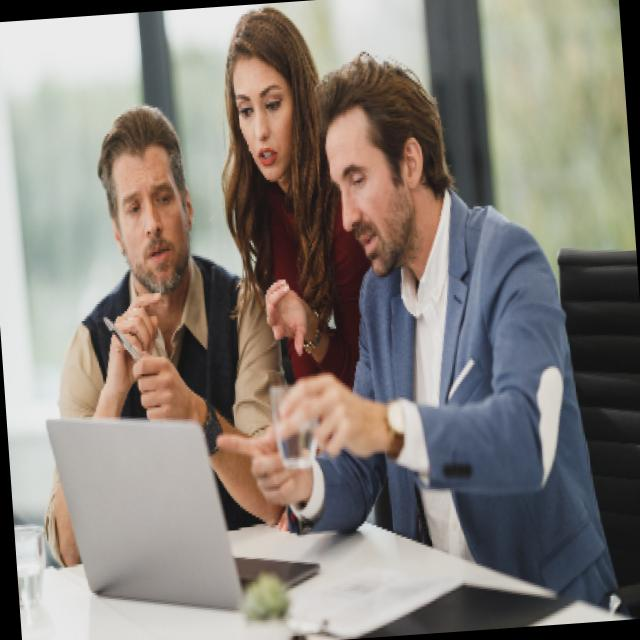Hand: (213, 401, 318, 512), (274, 362, 382, 464), (100, 288, 168, 388), (262, 272, 326, 362), (134, 352, 194, 424)
